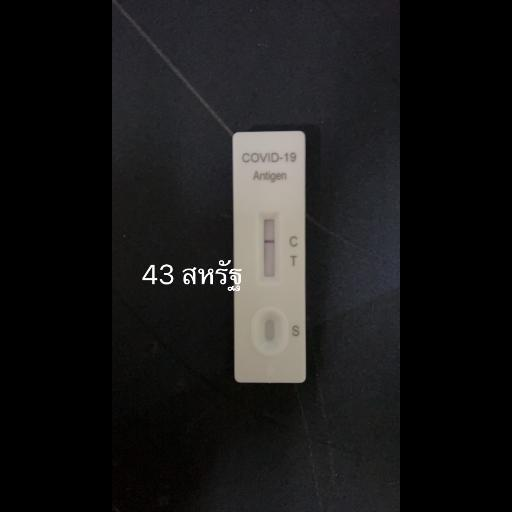Neg: (230, 132, 306, 382)
